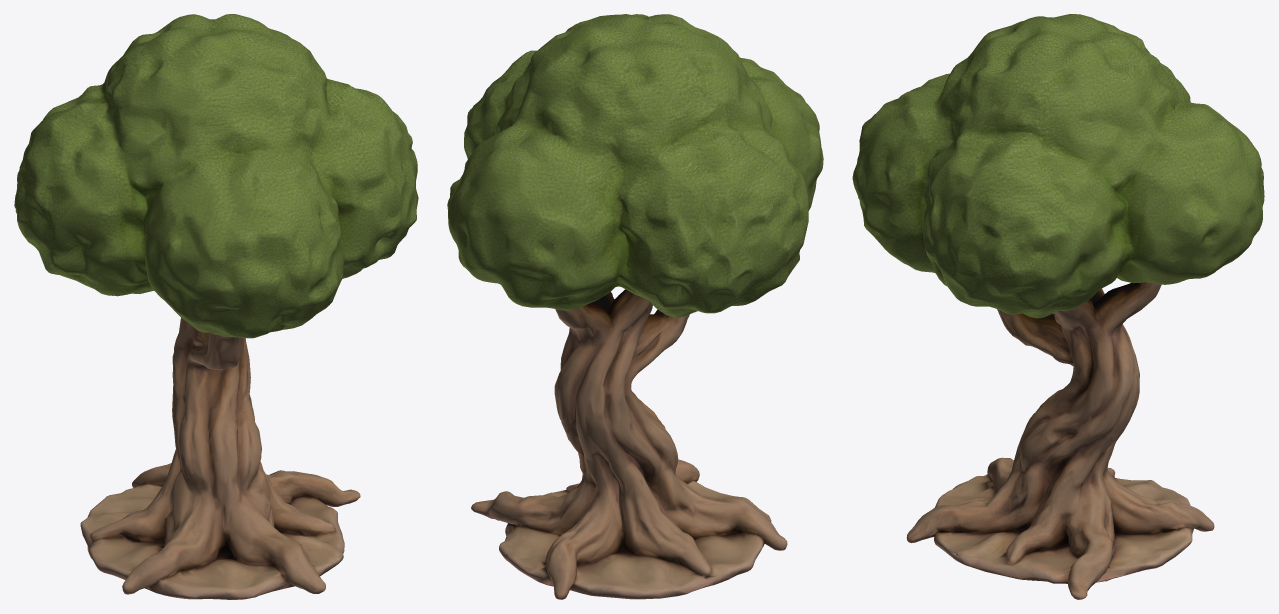
Rendered from bigtree.glb.
3 renders of one model, left to right at view 1: azimuth 30°, elevation 25°; view 2: azimuth 150°, elevation 25°; view 3: azimuth 270°, elevation 25°, orthographic. The views are drawn at different scales.
Parts seen in each view (by area): view 1: tripo_node_1c58cd64-08a9-44ee-be4b-88032c0b2c21; view 2: tripo_node_1c58cd64-08a9-44ee-be4b-88032c0b2c21; view 3: tripo_node_1c58cd64-08a9-44ee-be4b-88032c0b2c21.
Boxes of the visible parts, x1,y1,x2,y2 form: tripo_node_1c58cd64-08a9-44ee-be4b-88032c0b2c21: (14,14,418,599); tripo_node_1c58cd64-08a9-44ee-be4b-88032c0b2c21: (447,14,823,599); tripo_node_1c58cd64-08a9-44ee-be4b-88032c0b2c21: (852,14,1264,599).
Size of the model in its own units: 0.6976 by 0.9816 by 0.7296.
Materials: 1 (1 with a texture image).
